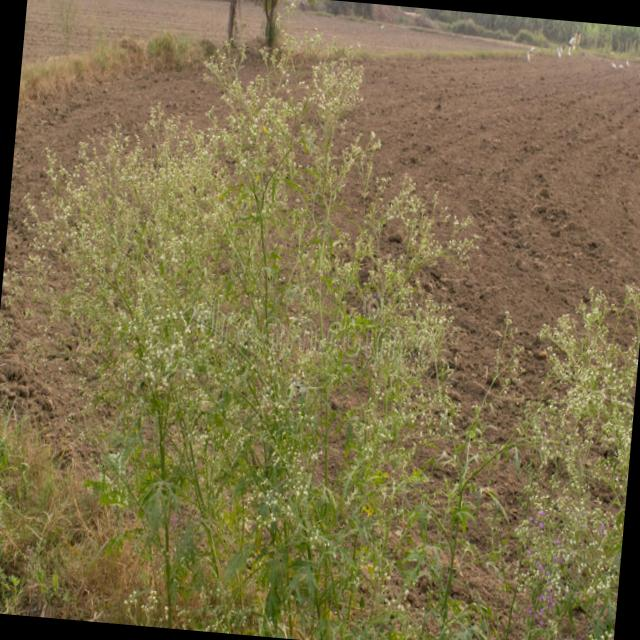Poisonous-Parthenium: (0, 10, 457, 640), (498, 277, 640, 640)
